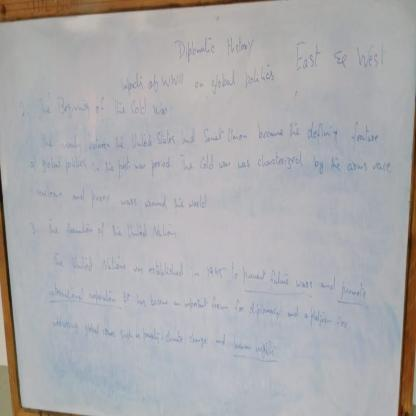Handwritten text: (41, 276, 354, 341), (48, 247, 372, 303), (43, 310, 283, 371), (37, 109, 382, 150), (26, 149, 396, 184), (30, 183, 214, 219), (290, 27, 393, 83), (118, 62, 281, 93), (34, 91, 171, 121), (43, 215, 179, 244), (166, 30, 251, 65)
Whiteboard: (0, 0, 416, 416)
